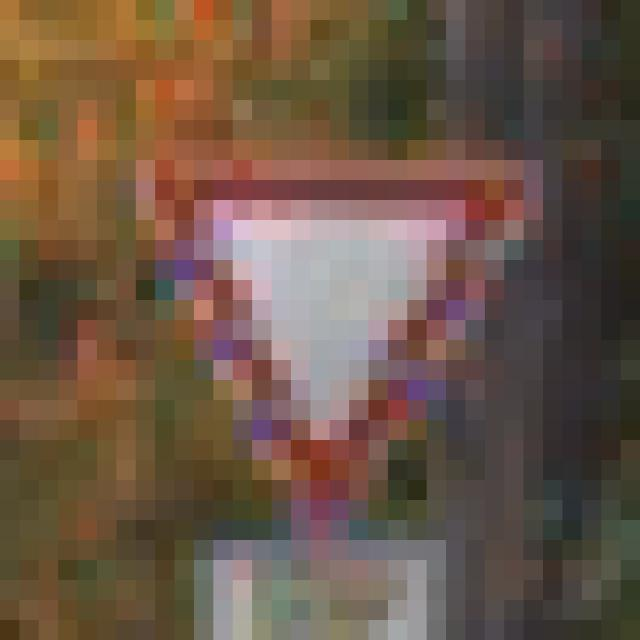Give Way: (117, 101, 544, 541)
